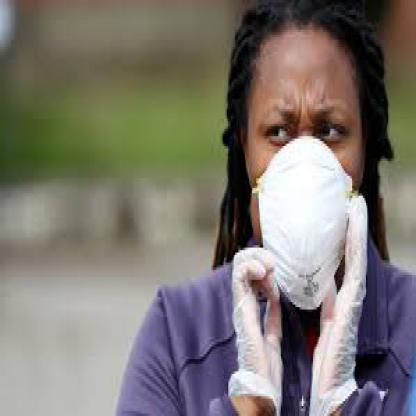Wearing_Mask: (233, 25, 374, 337)
